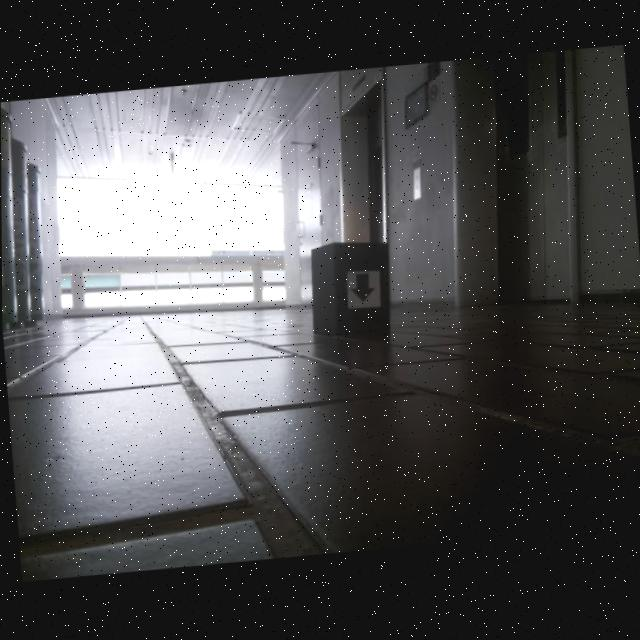DOWN: (349, 274, 376, 305)
